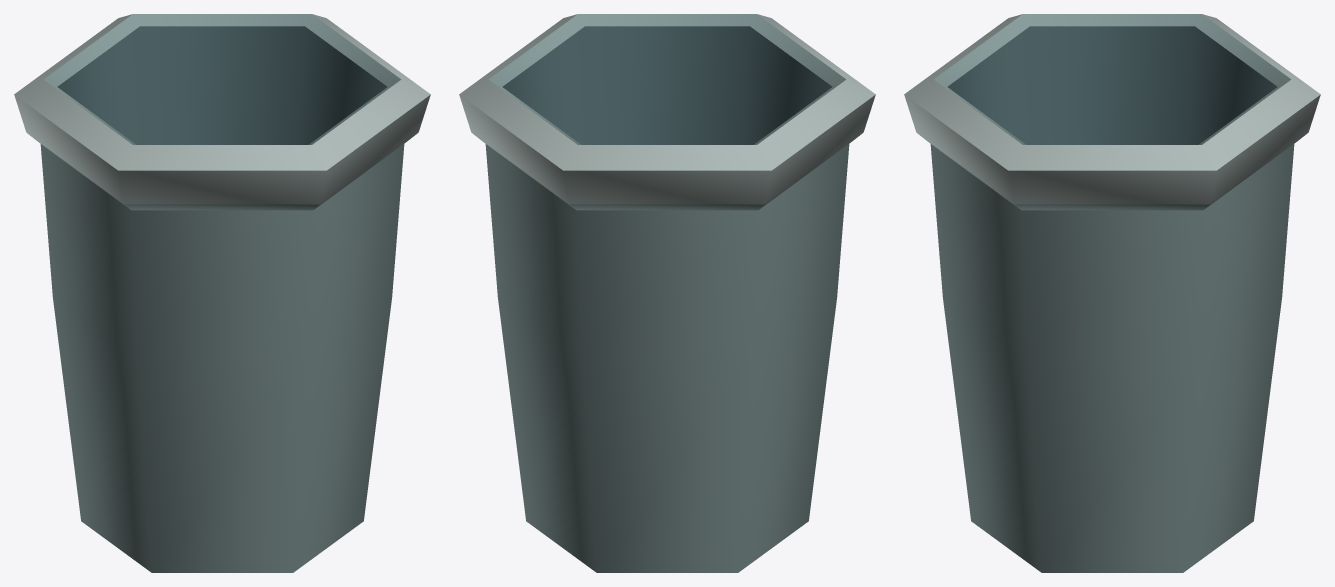
Rendered from Trashcan1.fbx.
3 renders of one model, left to right at view 1: azimuth 30°, elevation 25°; view 2: azimuth 150°, elevation 25°; view 3: azimuth 270°, elevation 25°, orthographic.
Parts seen in each view (by area): view 1: Trashcan1; view 2: Trashcan1; view 3: Trashcan1.
Boxes of the visible parts, <box> form: Trashcan1: <box>14,14,430,572</box>; Trashcan1: <box>459,14,875,572</box>; Trashcan1: <box>904,14,1320,572</box>.
Bounding box in the file's own units: 30.2 × 40.79 × 34.88.
